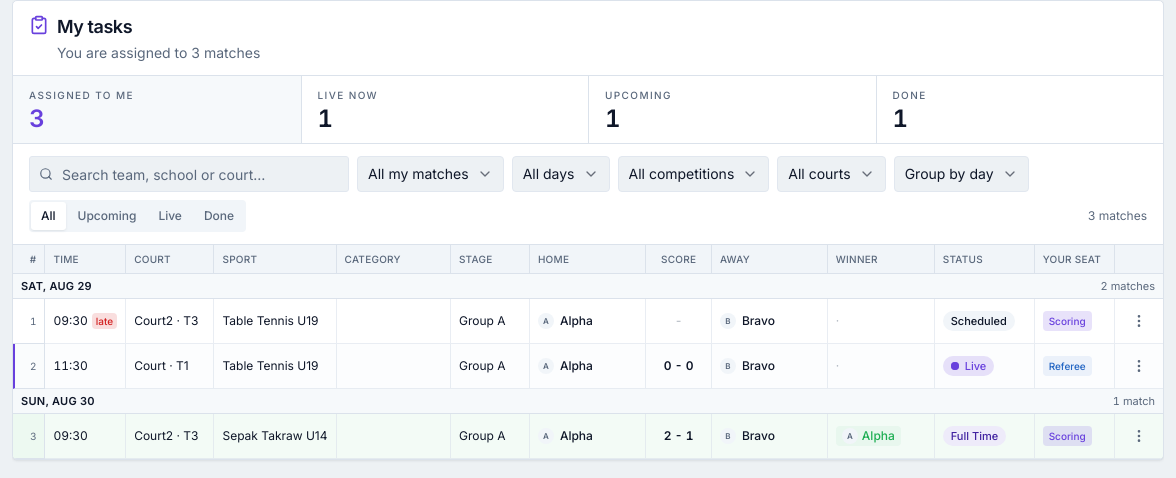
Test: MyTasksPage › the role filter splits scoring from officiating
The width and height of the screenshot is (1176, 478).
Expected: the element with test id "mytasks-list" is shown, 13,245 -> 1163,459
Click the button with aria-label "my role" at (430, 174), box 357,156 -> 504,192
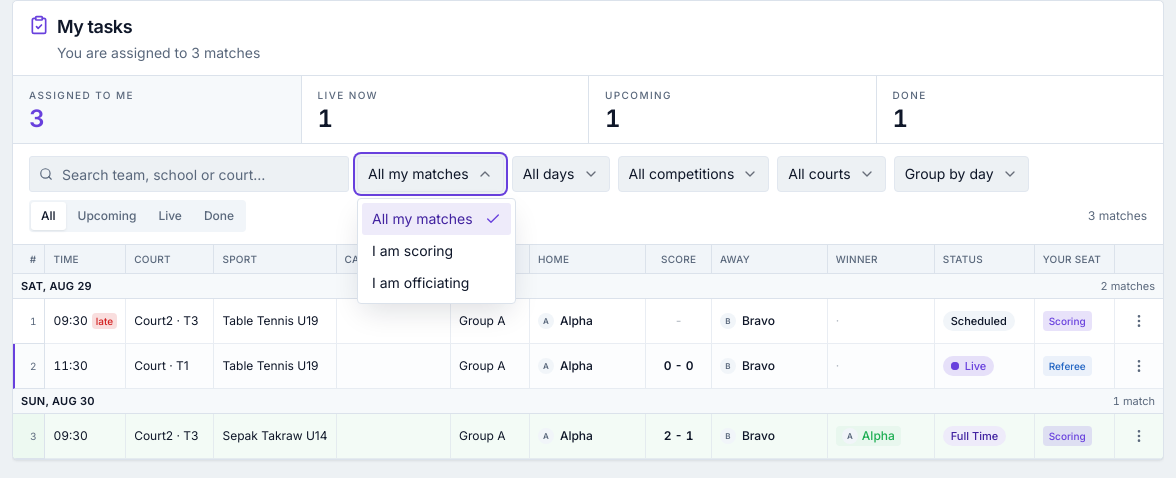
Click the option "I am officiating" at (421, 282), box 372,274 -> 470,291
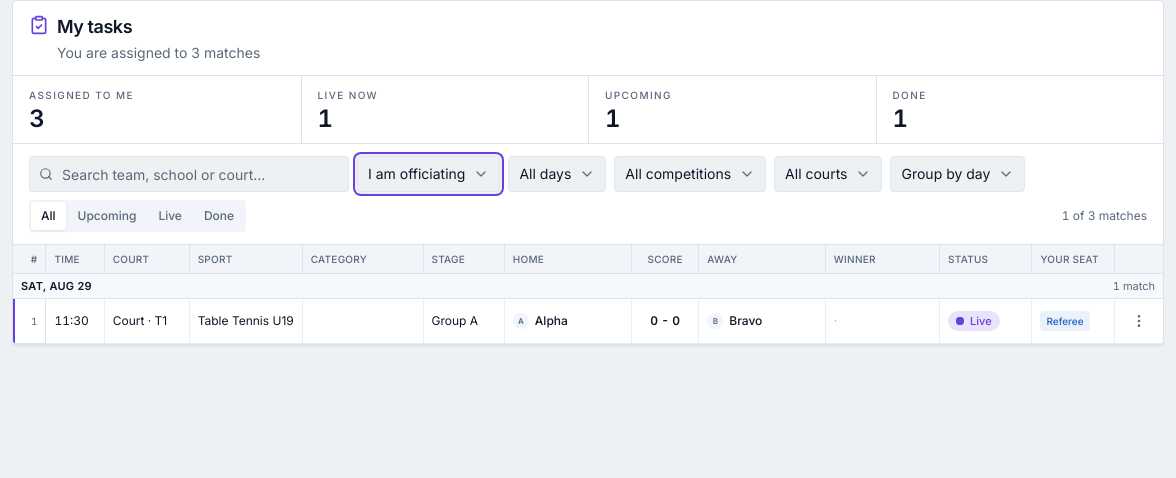
Expected: the row with test id "tile-m2" is shown, 13,299 -> 1163,344
Result: the row with test id "tile-m1" is gone
Result: the row with test id "tile-m3" is gone
